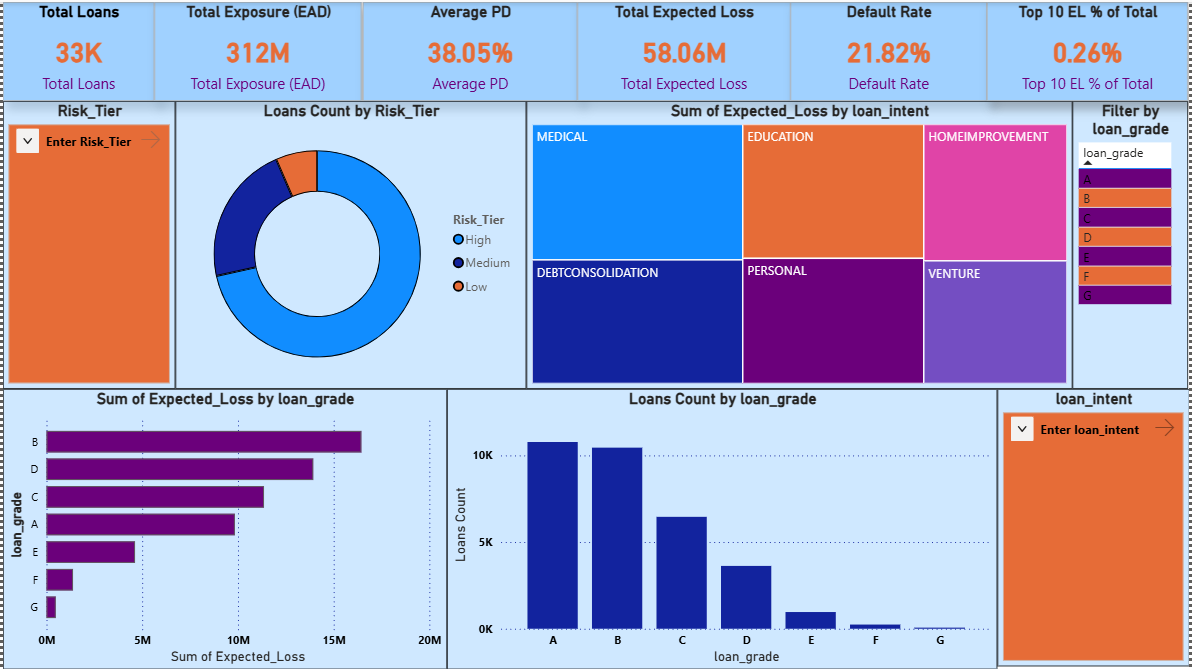

Layout of this report page (visuals, bound fields, positions):
{"tool":"powerbi","page":{"name":"Loan Portfolio","canvas":[1280,720],"ordinal":0},"visuals":[{"type":"card","title":"Total Loans","fields":{"Values":["credit_metrics.Total Loans"]},"box":[0,0,163.5,106.9],"z":0},{"type":"card","title":"Total Exposure (EAD)","fields":{"Values":["credit_metrics.Total Exposure (EAD)"]},"box":[163.5,0,223.5,106.9],"z":1000},{"type":"card","title":"Average PD","fields":{"Values":["credit_metrics.Average PD"]},"box":[388.6,0,231.5,106.9],"z":2000},{"type":"card","title":"Total Expected Loss","fields":{"Values":["credit_metrics.Total Expected Loss"]},"box":[620.2,0,229.9,106.9],"z":3000},{"type":"card","title":"Default Rate","fields":{"Values":["credit_metrics.Default Rate"]},"box":[850.1,0,212.1,106.9],"z":4000},{"type":"donutChart","fields":{"Category":["credit_scored.Risk_Tier"],"Y":["credit_metrics.Loans Count"]},"box":[186.2,106.9,378.9,310.9],"z":5000},{"type":"clusteredColumnChart","fields":{"Category":["credit_scored.loan_grade"],"Y":["credit_metrics.Loans Count"]},"box":[479.3,417.8,594.3,302.8],"z":6000},{"type":"tableEx","title":"Filter by loan_grade","fields":{"Values":["credit_scored.loan_grade"]},"box":[1154.5,106.9,124.7,310.9],"z":7000},{"type":"clusteredBarChart","fields":{"Category":["credit_scored.loan_grade"],"Y":["Sum(credit_scored.Expected_Loss)"]},"box":[0,417.8,479.3,302.8],"z":8000},{"type":"treemap","fields":{"Group":["credit_scored.loan_intent"],"Values":["Sum(credit_scored.Expected_Loss)"]},"box":[565.1,106.9,589.4,310.9],"z":9000},{"type":"card","title":"Top 10 EL % of Total","fields":{"Values":["credit_metrics.Top 10 EL % of Total"]},"box":[1062.2,0,217,106.9],"z":10000},{"type":"textSlicer","fields":{"Values":["credit_scored.Risk_Tier"]},"box":[0,106.9,186.2,310.9],"z":11000},{"type":"textSlicer","fields":{"Values":["credit_scored.loan_intent"]},"box":[1073.5,417.8,207.3,299.6],"z":12000}]}

Visuals, with their boxes in screenshot pixels (x1, y1, x2, y2), scaled from the page's 1280x720 canvas onto the 1192x669 screenshot:
"Total Loans" card: {"x1": 0, "y1": 0, "x2": 152, "y2": 99}
"Total Exposure (EAD)" card: {"x1": 152, "y1": 0, "x2": 360, "y2": 99}
"Average PD" card: {"x1": 362, "y1": 0, "x2": 577, "y2": 99}
"Total Expected Loss" card: {"x1": 578, "y1": 0, "x2": 792, "y2": 99}
"Default Rate" card: {"x1": 792, "y1": 0, "x2": 989, "y2": 99}
donutChart - credit_scored.Risk_Tier x credit_metrics.Loans Count: {"x1": 173, "y1": 99, "x2": 526, "y2": 388}
clusteredColumnChart - credit_scored.loan_grade x credit_metrics.Loans Count: {"x1": 446, "y1": 388, "x2": 1000, "y2": 668}
"Filter by loan_grade" tableEx: {"x1": 1075, "y1": 99, "x2": 1191, "y2": 388}
clusteredBarChart - credit_scored.loan_grade x Sum(credit_scored.Expected_Loss): {"x1": 0, "y1": 388, "x2": 446, "y2": 668}
treemap - credit_scored.loan_intent x Sum(credit_scored.Expected_Loss): {"x1": 526, "y1": 99, "x2": 1075, "y2": 388}
"Top 10 EL % of Total" card: {"x1": 989, "y1": 0, "x2": 1191, "y2": 99}
textSlicer - credit_scored.Risk_Tier: {"x1": 0, "y1": 99, "x2": 173, "y2": 388}
textSlicer - credit_scored.loan_intent: {"x1": 1000, "y1": 388, "x2": 1191, "y2": 667}
